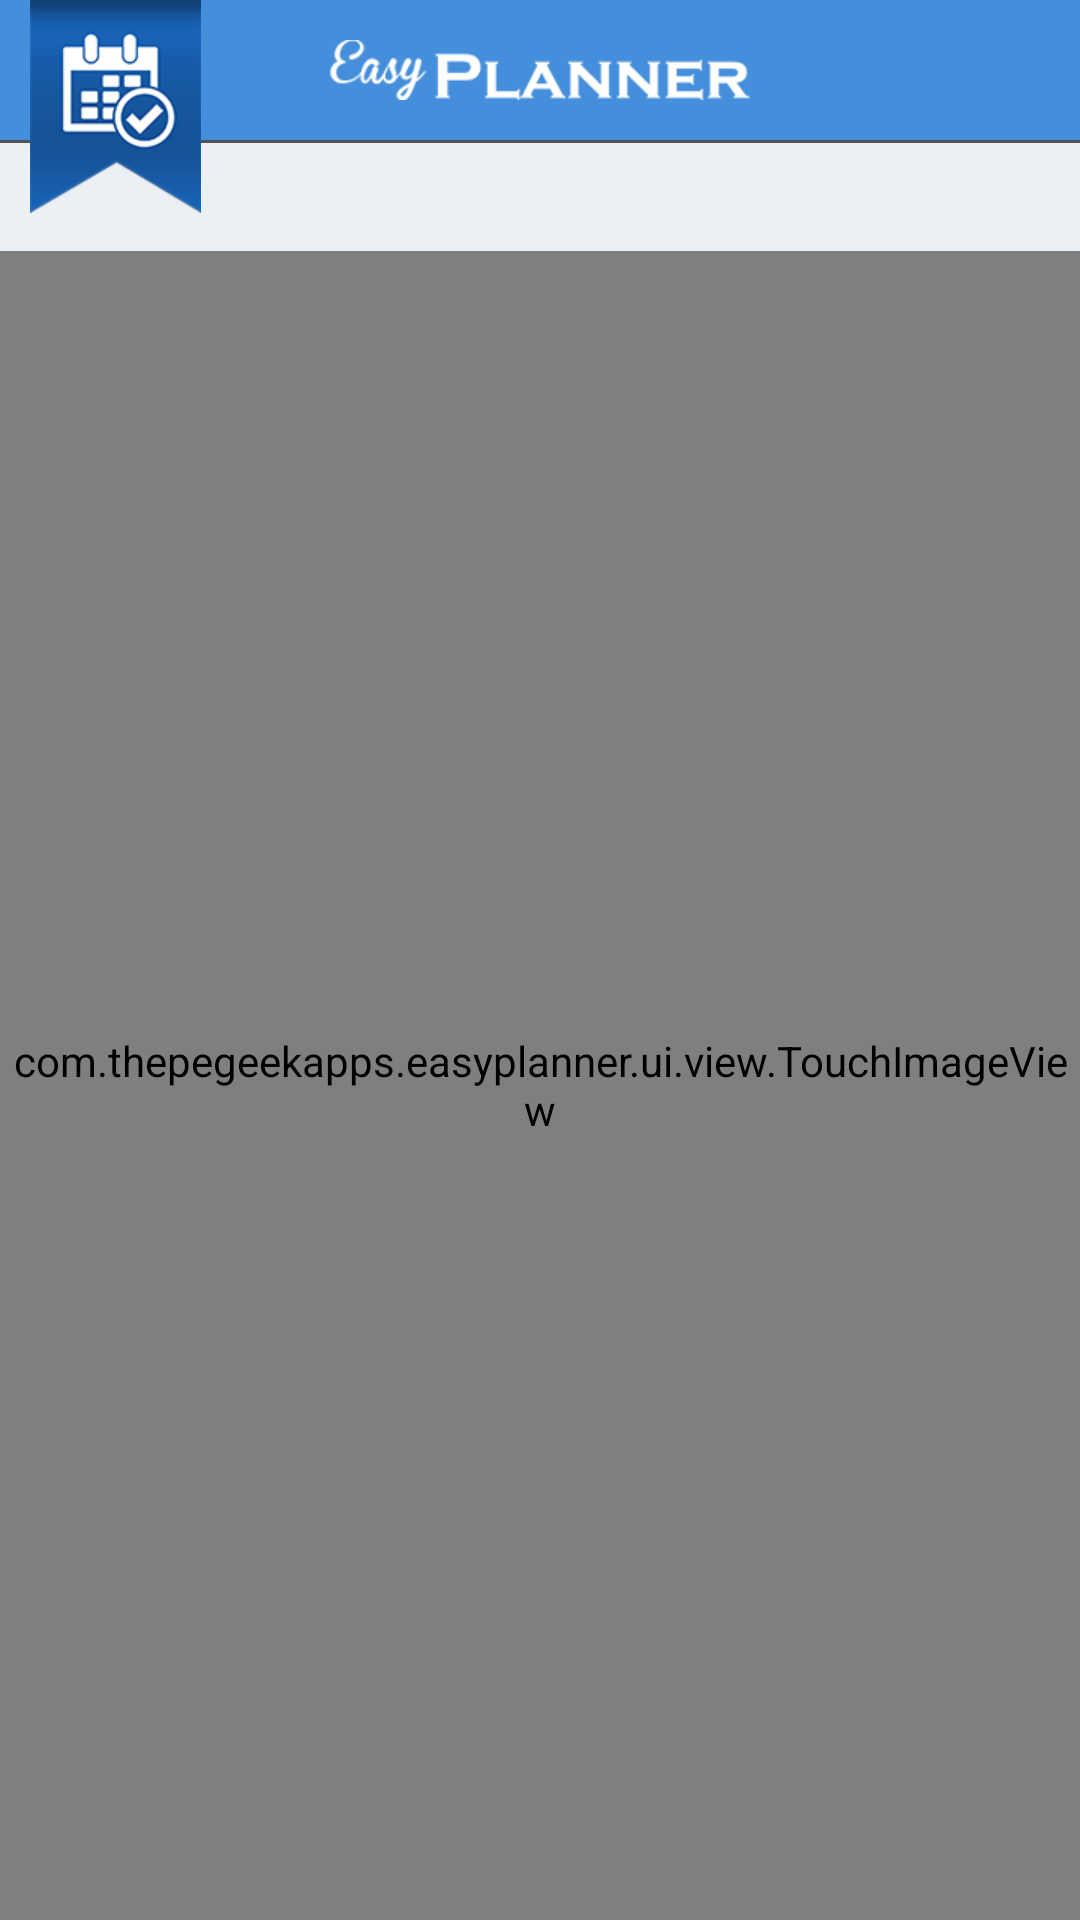

Named icons in this screenshot (1080w x 1920h) and their centers, (x=x, y=y):
ribbon: (x=115, y=106)
